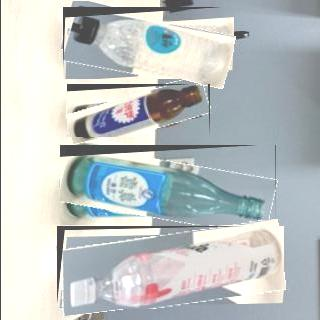bottle: (56, 225, 282, 309), (58, 144, 275, 225), (61, 6, 233, 79), (65, 83, 209, 137)
